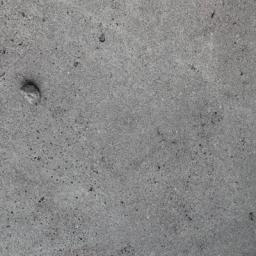FOD: (20, 81, 44, 111)
